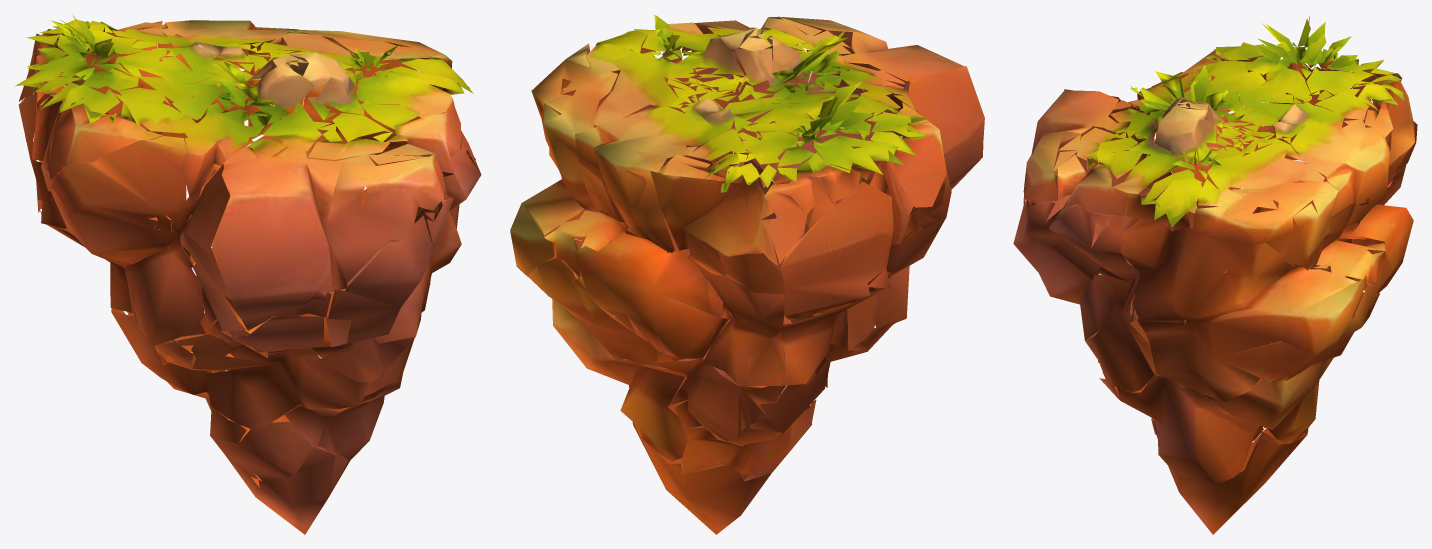
File: rocha.glb
The picture shows the model from 3 angles, left to right: view 1: azimuth 30°, elevation 25°; view 2: azimuth 150°, elevation 25°; view 3: azimuth 270°, elevation 25°; orthographic projection. The views are drawn at different scales.
Visible parts, largest first — view 1: rocha; view 2: rocha; view 3: rocha.
Boxes of the visible parts, x1,y1,x2,y2 form: rocha: [15, 15, 481, 534]; rocha: [510, 14, 984, 534]; rocha: [1013, 16, 1417, 534].
Bounding box in the file's own units: 2.1 × 2.7 × 2.21.
1 material, 1 textured.
